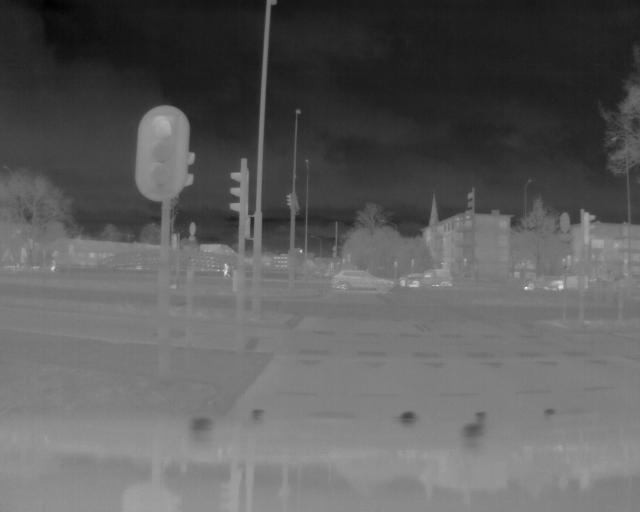car: (331, 267, 395, 293), (406, 267, 455, 289)
person: (219, 261, 231, 282)
